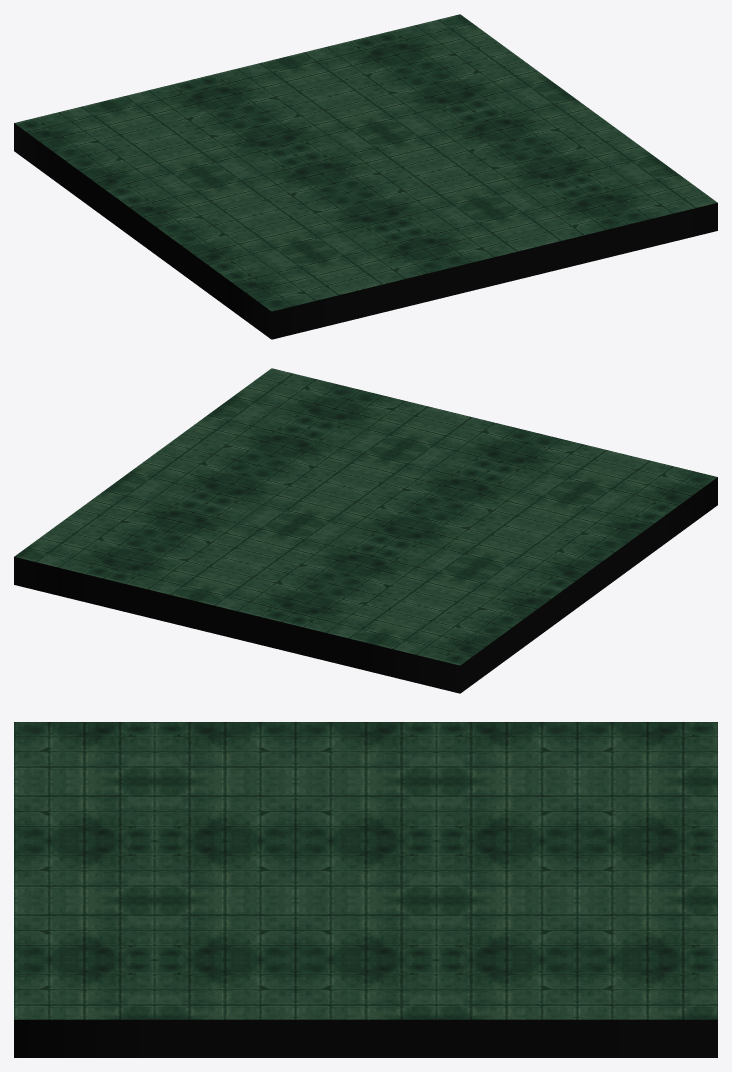
File: Frogames_DP_floor_5x5.FBX
3 views of the same model, one above another, from view 1: azimuth 30°, elevation 25°; view 2: azimuth 150°, elevation 25°; view 3: azimuth 270°, elevation 25° (orthographic). The views are drawn at different scales.
Parts seen in each view (by area): view 1: floor_5x5; view 2: floor_5x5; view 3: floor_5x5.
Boxes of the visible parts, bbox=[...] form: floor_5x5: bbox=[14, 14, 717, 339]; floor_5x5: bbox=[14, 368, 717, 693]; floor_5x5: bbox=[14, 722, 717, 1057].
Bounding box in the file's own units: 50 × 50 × 3.
